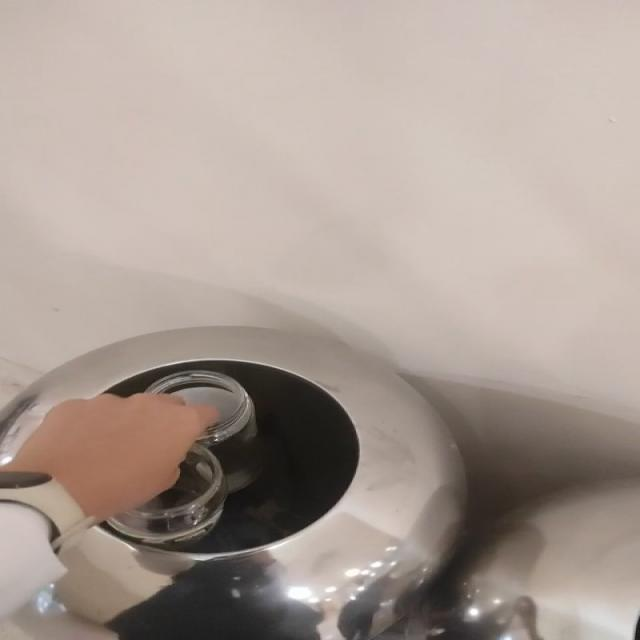Glass: (107, 371, 261, 544)
